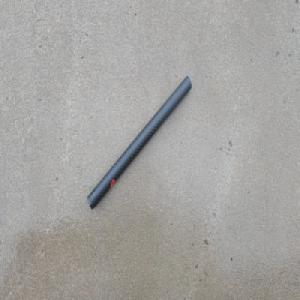LuggagePart: (87, 74, 191, 211)
